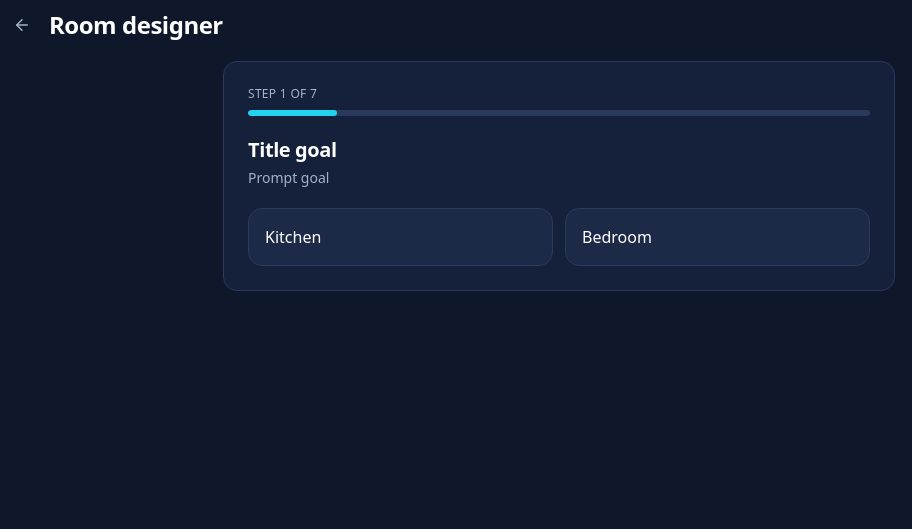
Room designer: wizard › renders the server question and sends the chosen answer for the current step
Later steps or results of the test are not shown.
Expected: the heading "Title goal" is shown, x1=248 y1=136 x2=337 y2=163
Expected: the text "Step 1 of 7" is shown, x1=248 y1=85 x2=317 y2=102
Click the radio button labelled "Bedroom" at (617, 237), box x1=565 y1=208 x2=870 y2=266
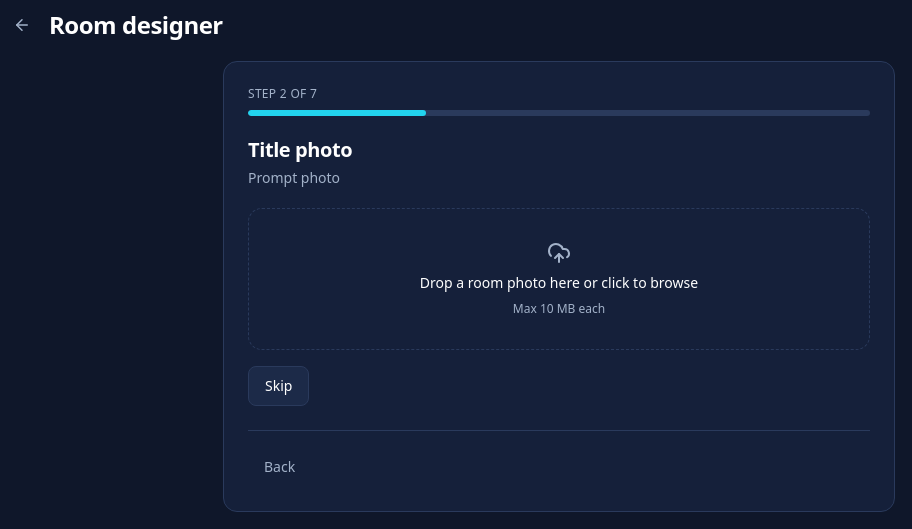
Expected: the heading "Title photo" is shown, x1=248 y1=136 x2=352 y2=163
